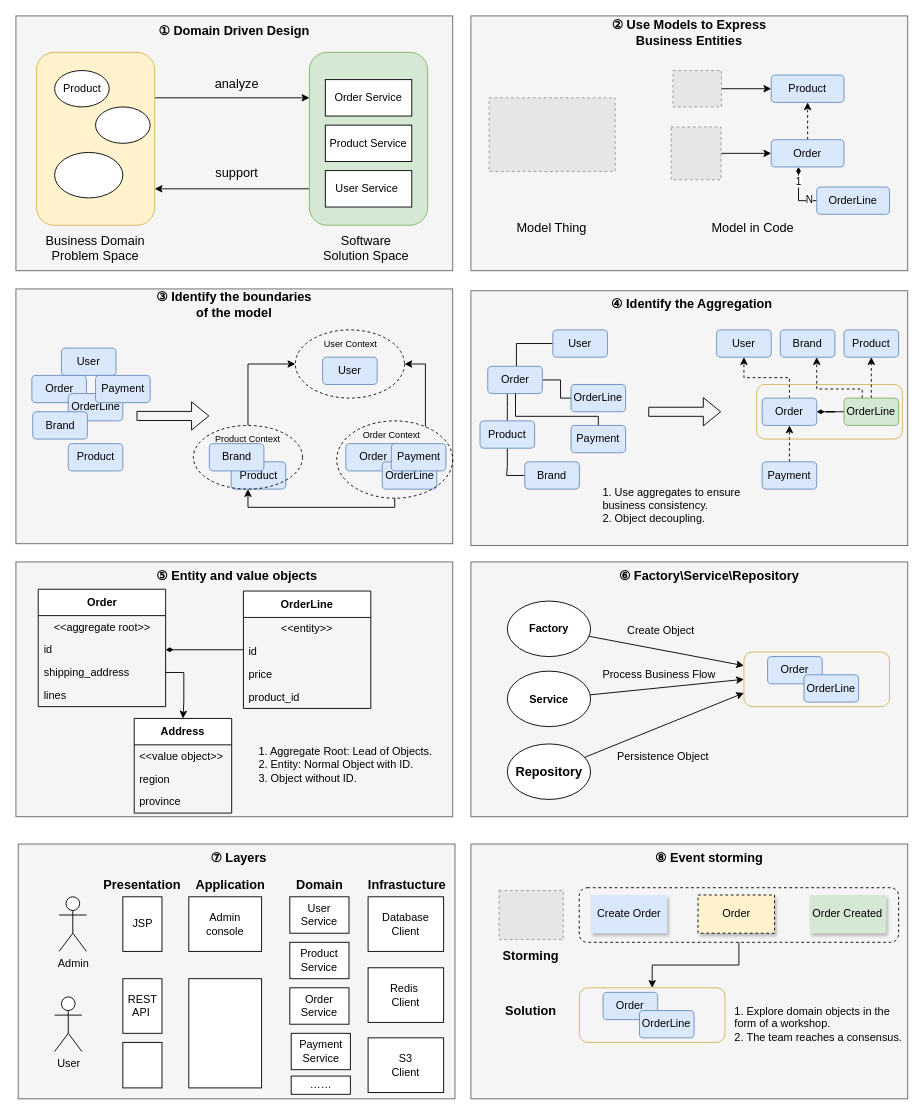
Image size: 924x1115. Some labels were removed from this diagram. Grey dashed boxes stand in for pictures. Each missing label, with the centre of its shape:
"Customer Service" belongs at point (88, 175).
"Mall App" belongs at point (225, 1033).
"Sales" belongs at point (122, 124).
"Web Socket" belongs at point (142, 1064).
